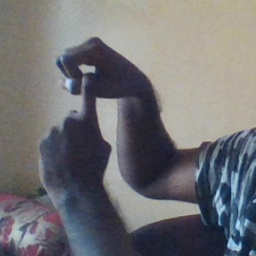Q: (36, 34, 131, 178)
